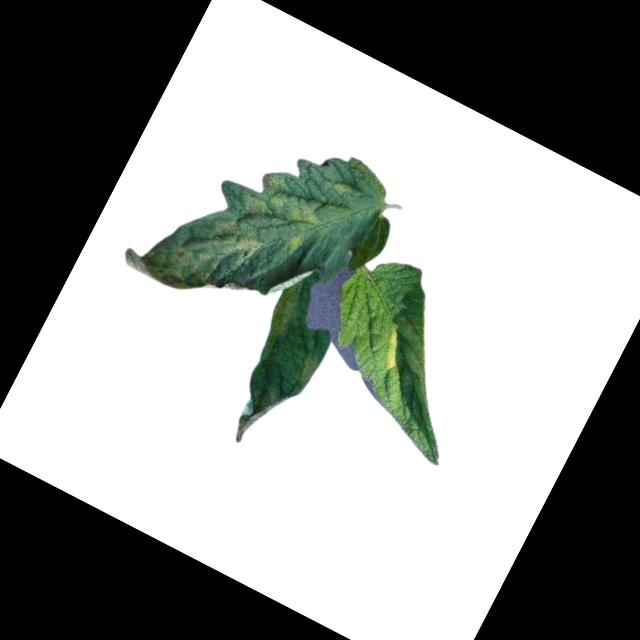Leaf_Mold: (119, 182, 267, 319), (235, 160, 331, 242), (371, 325, 412, 374), (276, 227, 307, 262), (295, 351, 323, 384), (327, 177, 352, 202)
